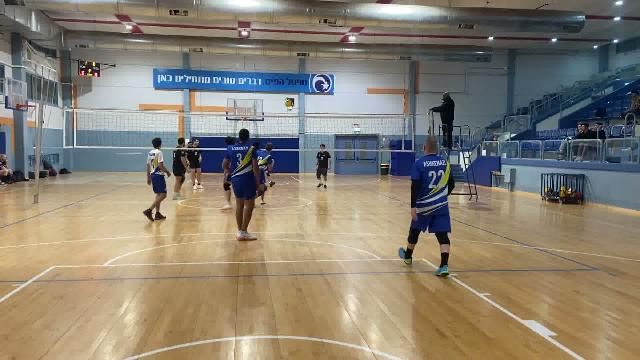ball: (283, 98, 294, 109)
